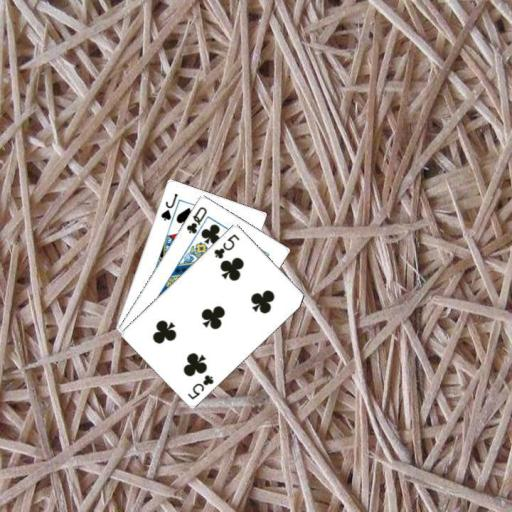5C: (184, 372, 216, 401), (211, 231, 241, 261)
JS: (158, 190, 179, 222)
QC: (184, 204, 209, 236)
